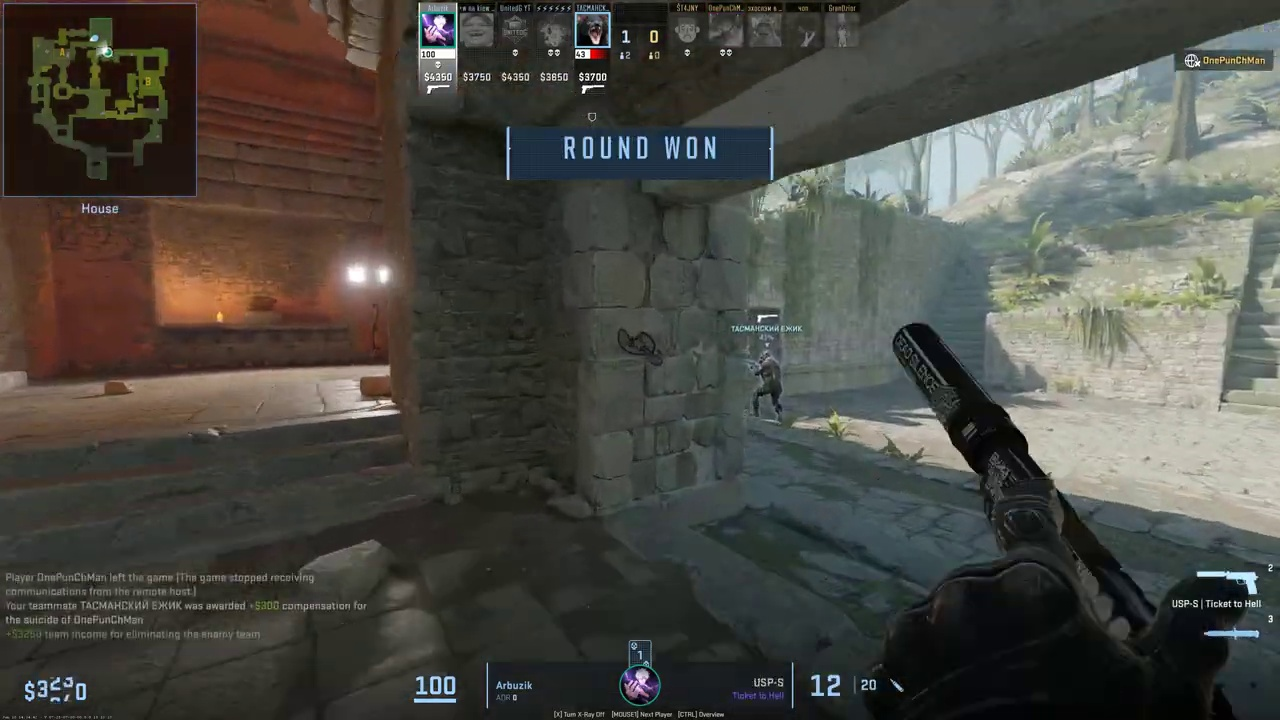CT: (753, 351, 783, 417)
